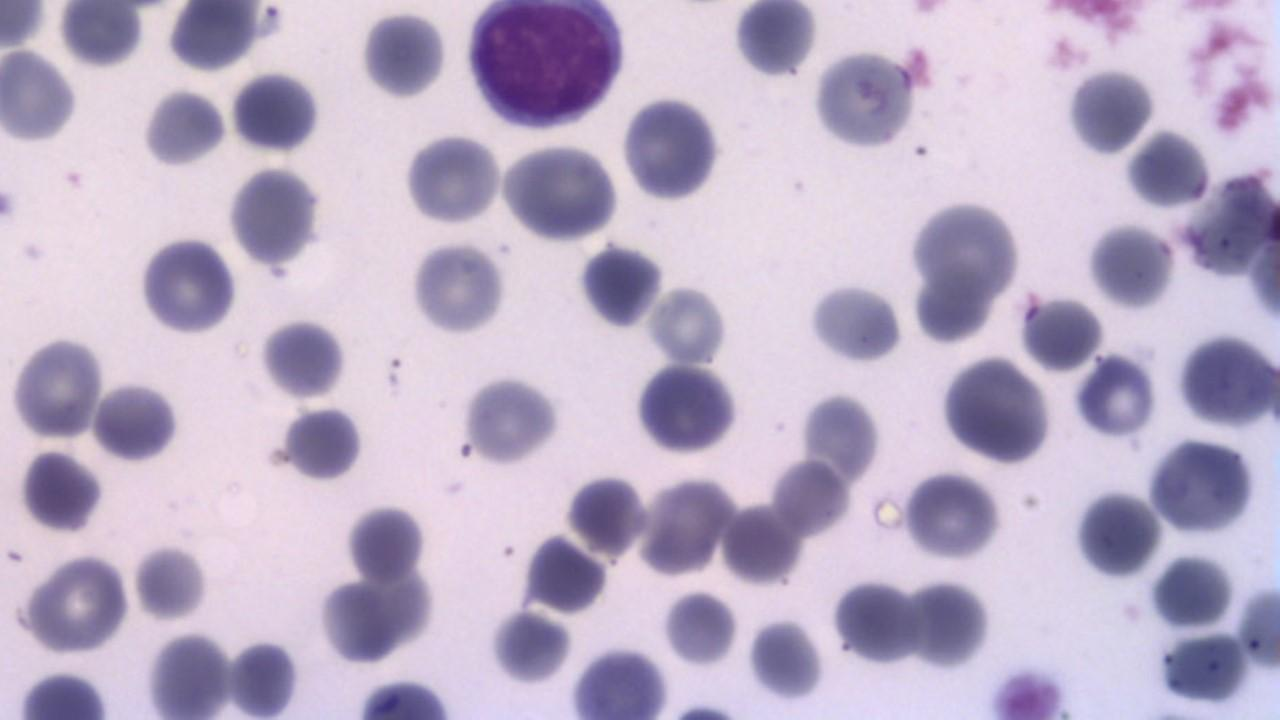Platelets: (618, 94, 728, 204), (810, 44, 918, 153), (630, 364, 746, 459), (226, 162, 329, 268), (399, 132, 504, 228), (406, 239, 510, 335), (461, 372, 562, 466), (1082, 217, 1176, 312), (829, 576, 924, 670), (1070, 486, 1160, 582), (802, 281, 906, 364), (356, 9, 448, 102), (1063, 66, 1153, 160), (228, 68, 323, 157), (575, 240, 662, 334), (15, 448, 106, 536), (89, 378, 183, 463), (257, 314, 348, 401), (1117, 130, 1213, 211), (1154, 628, 1248, 708), (341, 500, 428, 586), (562, 470, 648, 556), (278, 403, 369, 484), (138, 87, 228, 168), (744, 614, 826, 702), (485, 608, 576, 685), (729, 3, 820, 80), (908, 269, 996, 348), (227, 632, 305, 719), (660, 587, 742, 667), (986, 660, 1070, 720), (353, 678, 449, 718), (0, 182, 20, 227)
RBC: (938, 357, 1054, 467), (498, 141, 618, 243), (1143, 436, 1261, 538), (810, 44, 920, 153), (18, 552, 132, 656), (618, 93, 722, 204), (1172, 330, 1280, 428), (9, 332, 103, 444), (405, 237, 509, 337), (138, 232, 238, 336), (399, 131, 505, 228), (462, 370, 568, 464), (1062, 64, 1156, 160), (828, 577, 924, 669), (227, 70, 323, 156), (89, 377, 184, 463), (0, 44, 80, 145), (1072, 350, 1158, 442), (1153, 628, 1251, 708), (1120, 128, 1214, 210), (646, 280, 730, 366), (164, 0, 260, 74), (56, 0, 144, 70), (350, 676, 460, 718), (1, 1, 50, 48)
WBC: (515, 0, 1280, 720), (461, 0, 632, 133), (1143, 435, 1261, 538), (620, 93, 727, 205), (224, 160, 327, 265), (228, 70, 323, 156), (165, 1, 263, 72), (55, 1, 147, 68)
